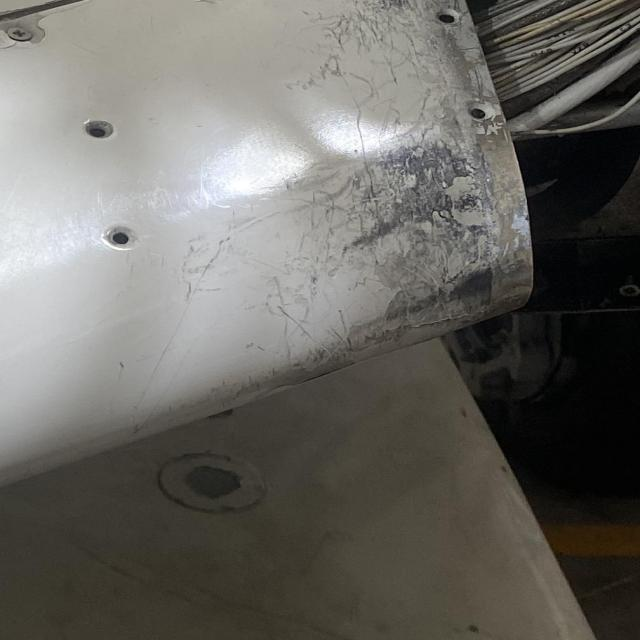Missing-head: (103, 225, 138, 251), (465, 99, 498, 124), (84, 118, 116, 138), (436, 10, 462, 25), (203, 0, 223, 2)
Scratch: (322, 124, 533, 365)
